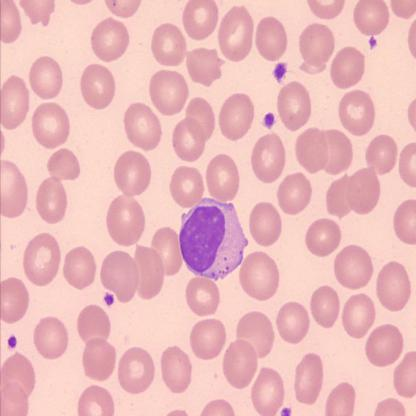Lymphocyte: (178, 197, 249, 280)
